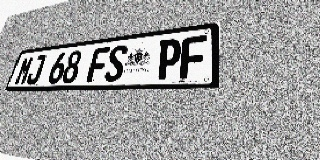6: (47, 52, 69, 84)
8: (60, 50, 84, 83)
F: (179, 35, 207, 79), (86, 46, 110, 82)
J: (25, 54, 47, 85)
M: (14, 56, 35, 85)
P: (155, 38, 182, 80)
S: (103, 44, 128, 82)
